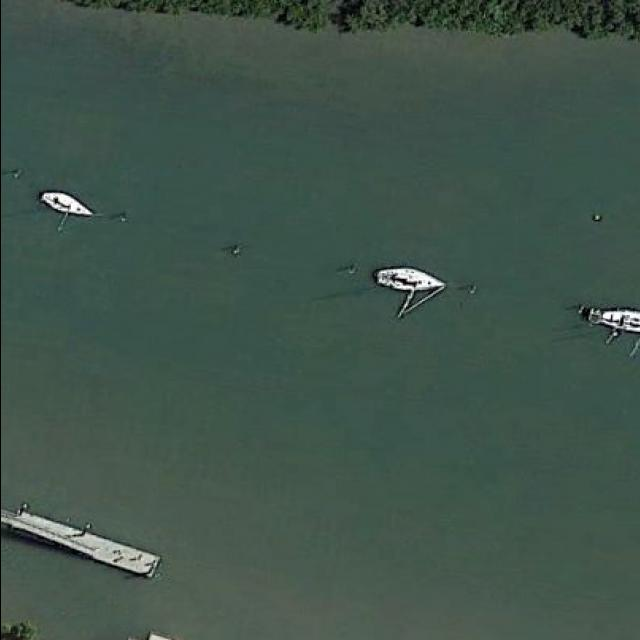ship: (372, 264, 448, 300), (38, 188, 100, 218)
